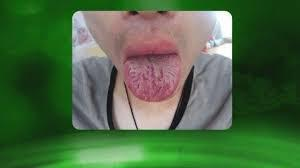baitaishe: (122, 54, 182, 102)
